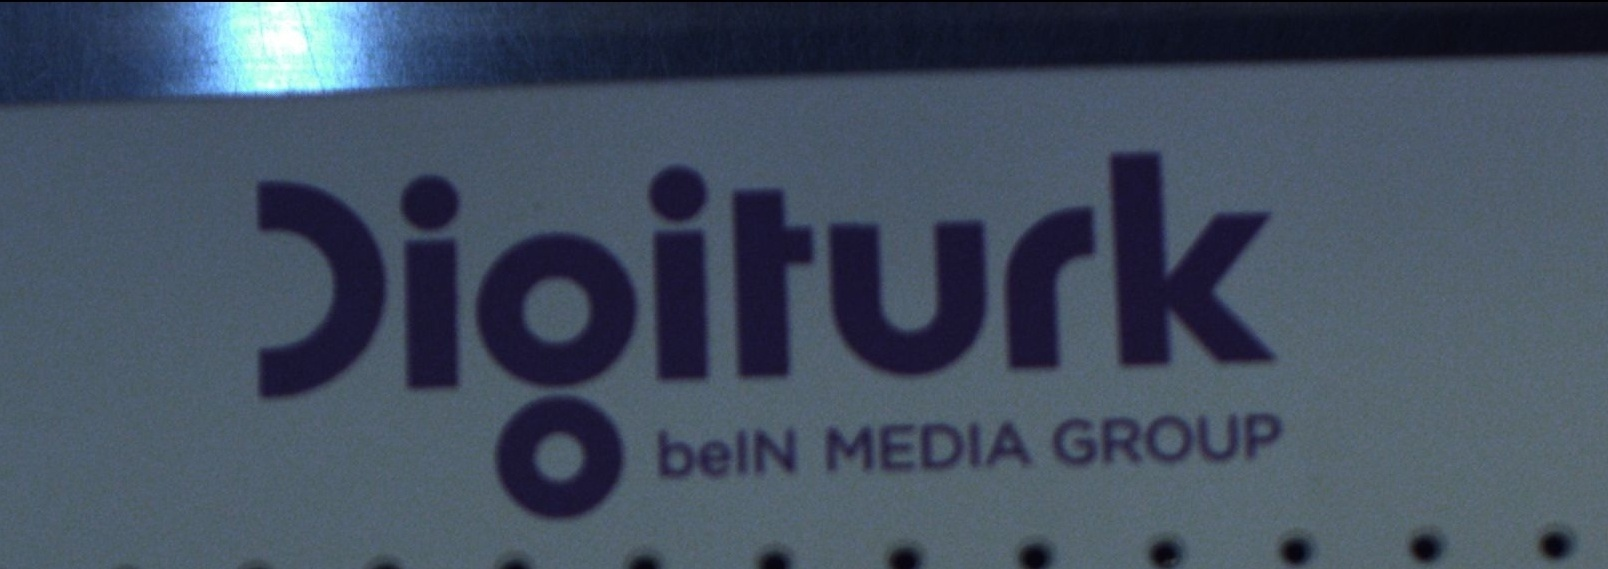BW_H168ADigiturk: (240, 123, 1328, 523)
